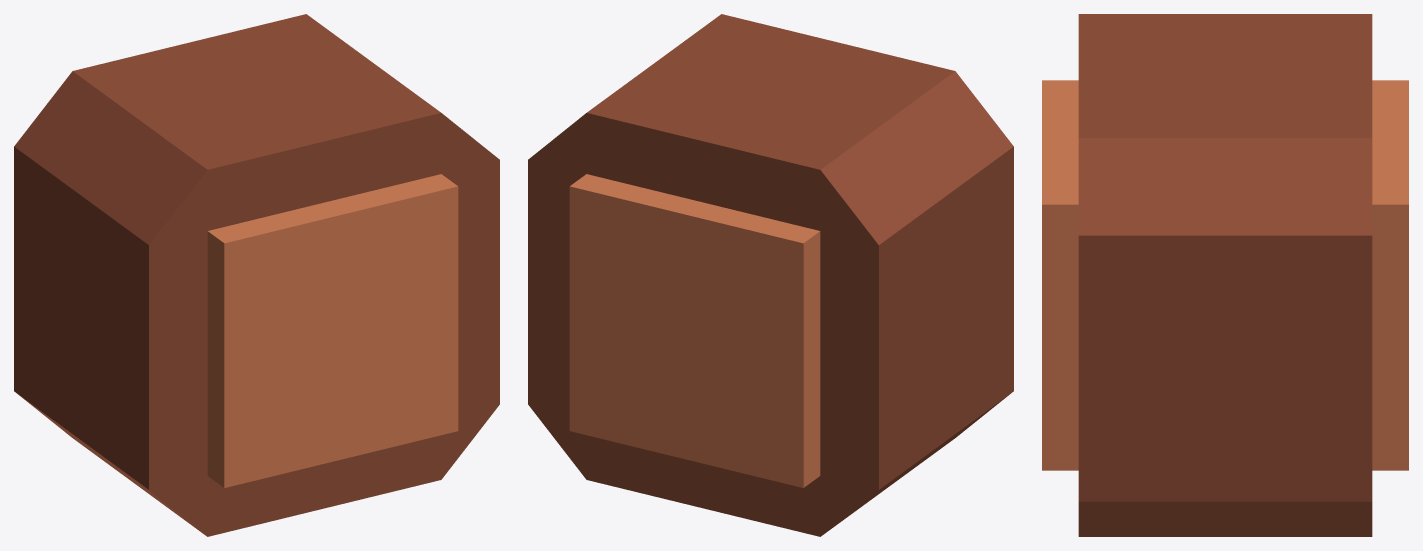
Rendered from StickKnee.fbx.
3 renders of one model, left to right at view 1: azimuth 30°, elevation 25°; view 2: azimuth 150°, elevation 25°; view 3: azimuth 270°, elevation 25°, orthographic. The views are drawn at different scales.
Parts seen in each view (by area): view 1: generated; view 2: generated; view 3: generated.
Boxes of the visible parts, <box> form: generated: <box>14,14,499,536</box>; generated: <box>528,14,1013,536</box>; generated: <box>1042,14,1408,536</box>.
Size of the model in its own units: 60 by 60 by 50.
1 material, 1 textured.
